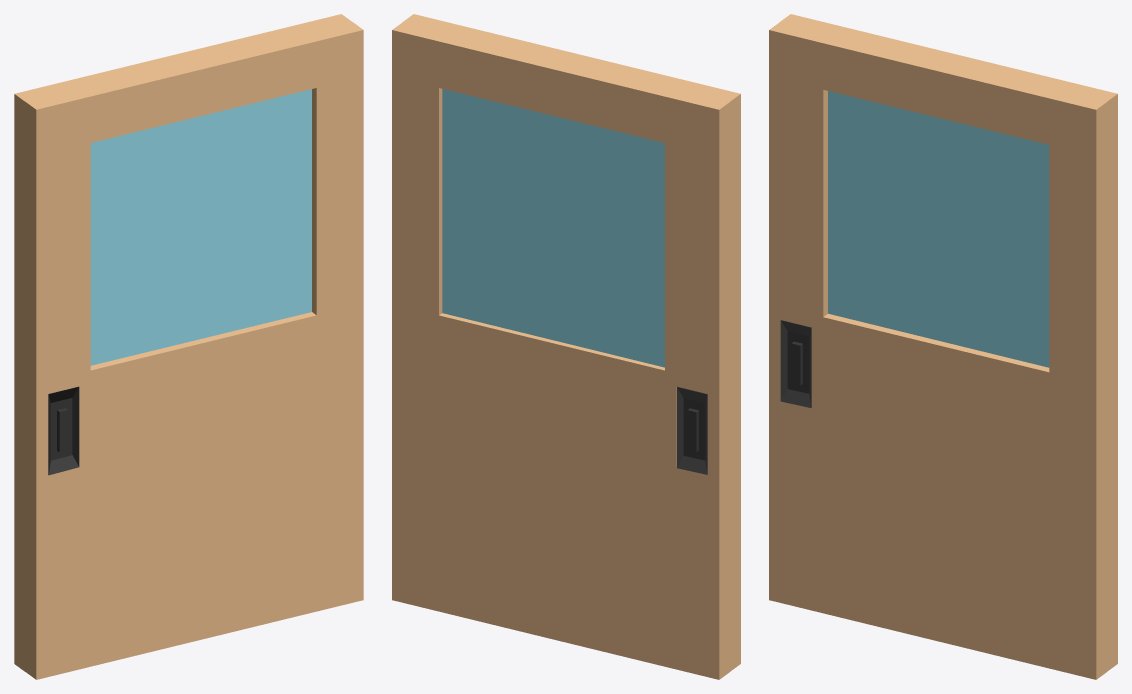
The model's file is SCH0110025.fbx.
3 renders of one model, left to right at view 1: azimuth 30°, elevation 25°; view 2: azimuth 150°, elevation 25°; view 3: azimuth 330°, elevation 25°, orthographic.
Parts seen in each view (by area): view 1: smSCH0110025; view 2: smSCH0110025; view 3: smSCH0110025.
Boxes of the visible parts, box(x1,y1,x2,y2) form: smSCH0110025: box(14, 14, 363, 679); smSCH0110025: box(392, 14, 740, 679); smSCH0110025: box(769, 14, 1117, 679).
Size of the model in its own units: 148 by 247 by 18.03.
1 material, 1 textured.
